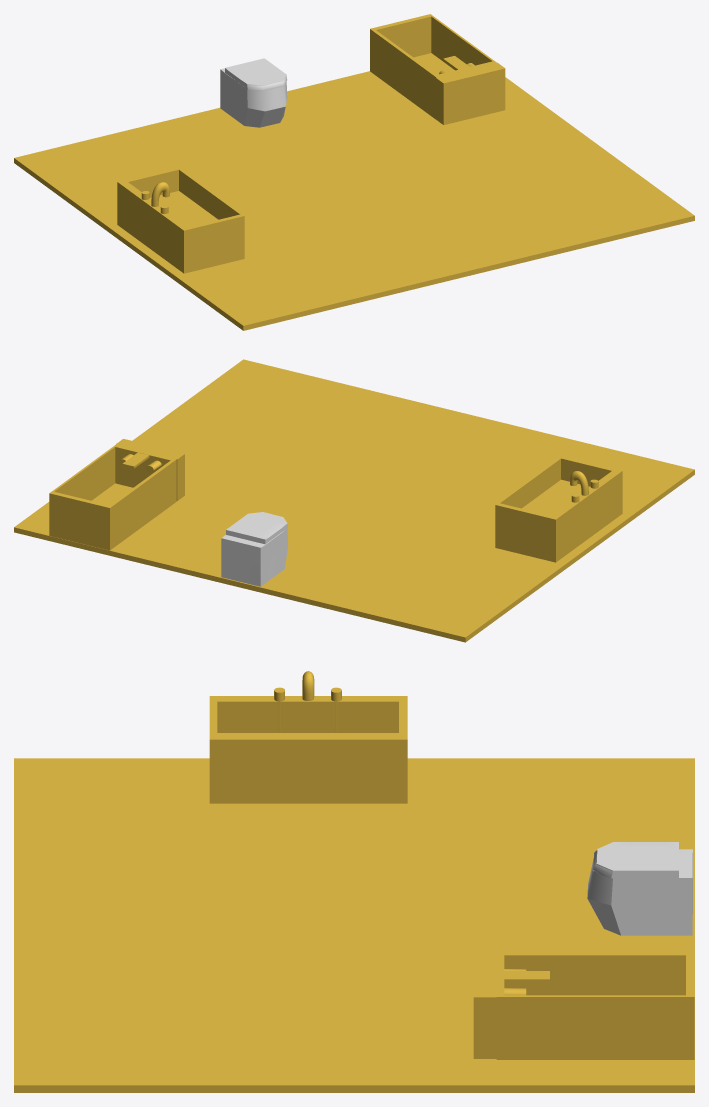
File: bathroom 1.fbx
3 renders of one model, top to bottom at view 1: azimuth 30°, elevation 25°; view 2: azimuth 150°, elevation 25°; view 3: azimuth 270°, elevation 25°, orthographic. The views are drawn at different scales.
Parts seen in each view (by area): view 1: pCube1, pasted__pCube15, pasted__pCube16, toiletss:polySurface5, pCube3; view 2: pCube1, pasted__pCube15, pasted__pCube16, toiletss:polySurface5, pCube3; view 3: pCube1, pasted__pCube15, pasted__pCube16, toiletss:polySurface5, pCube3.
Part boxes in pixels (x1=…): pCube1: x1=14, y1=71, x2=694, y2=330; pasted__pCube15: x1=117, y1=167, x2=244, y2=273; pasted__pCube16: x1=370, y1=14, x2=496, y2=119; toiletss:polySurface5: x1=220, y1=58, x2=287, y2=127; pCube3: x1=436, y1=62, x2=505, y2=124; pCube1: x1=14, y1=359, x2=694, y2=642; pasted__pCube15: x1=495, y1=456, x2=622, y2=562; pasted__pCube16: x1=49, y1=444, x2=176, y2=550; toiletss:polySurface5: x1=221, y1=512, x2=288, y2=586; pCube3: x1=116, y1=439, x2=184, y2=500; pCube1: x1=14, y1=758, x2=694, y2=1092; pasted__pCube15: x1=209, y1=696, x2=407, y2=803; pasted__pCube16: x1=496, y1=953, x2=694, y2=1059; toiletss:polySurface5: x1=587, y1=842, x2=692, y2=935; pCube3: x1=473, y1=952, x2=496, y2=1058.
Size of the model in its own units: 392 by 59.36 by 345.
